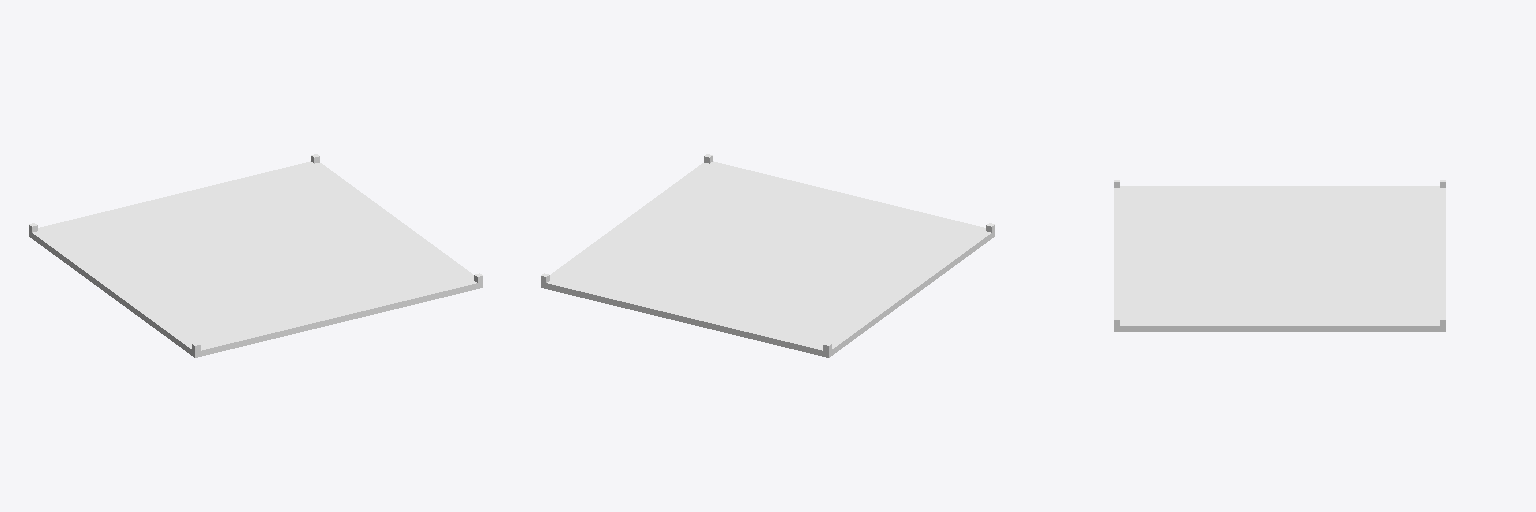
File: emptyWorkingSpace.obj
3 views of the same model, side by side, from view 1: azimuth 30°, elevation 25°; view 2: azimuth 150°, elevation 25°; view 3: azimuth 270°, elevation 25° (orthographic).
Parts seen in each view (by area): view 1: object 1; view 2: object 1; view 3: object 1.
Part boxes in pixels (bbox=[...]): object 1: bbox=[29, 154, 482, 357]; object 1: bbox=[541, 154, 994, 357]; object 1: bbox=[1114, 180, 1445, 331].
Bounding box in the file's own units: 5 × 0.2 × 5.